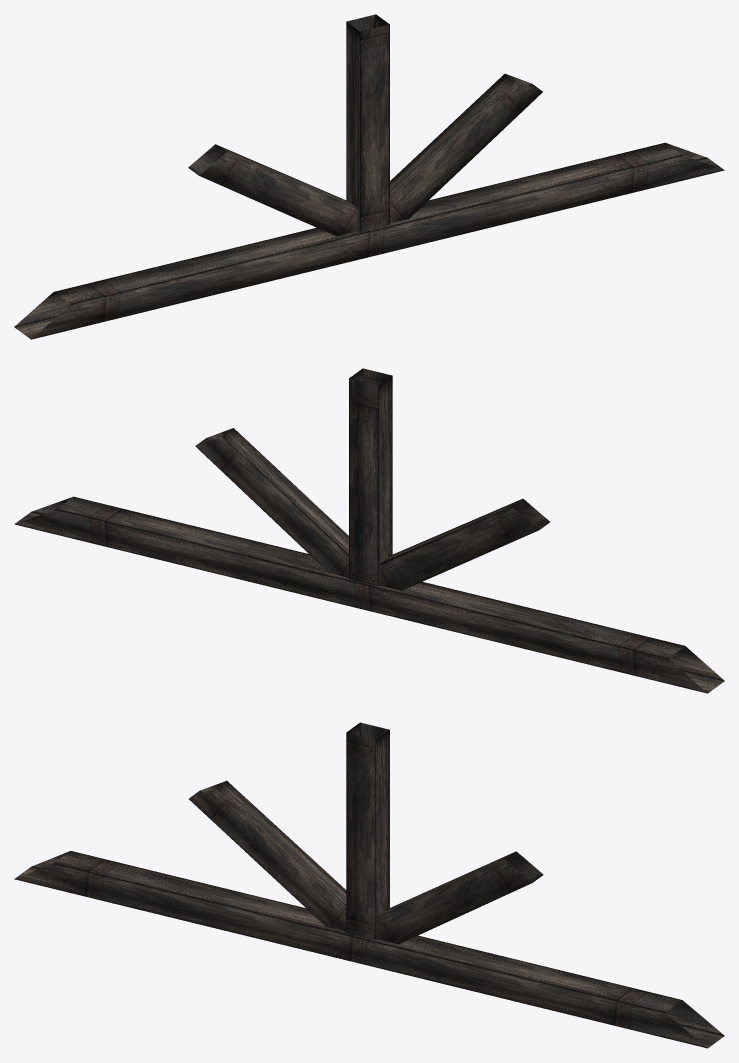
The model's file is NW_CITY_BEAMS_01.glb.
3 renders of one model, top to bottom at view 1: azimuth 30°, elevation 25°; view 2: azimuth 150°, elevation 25°; view 3: azimuth 330°, elevation 25°, orthographic.
Parts seen in each view (by area): view 1: Mesh; view 2: Mesh; view 3: Mesh.
Part boxes in pixels (bbox=[...]): Mesh: bbox=[14, 14, 724, 339]; Mesh: bbox=[14, 368, 724, 693]; Mesh: bbox=[14, 722, 724, 1048].
Bounding box in the file's own units: 6.97 × 2.17 × 0.2992.
Materials: 1 (1 with a texture image).
